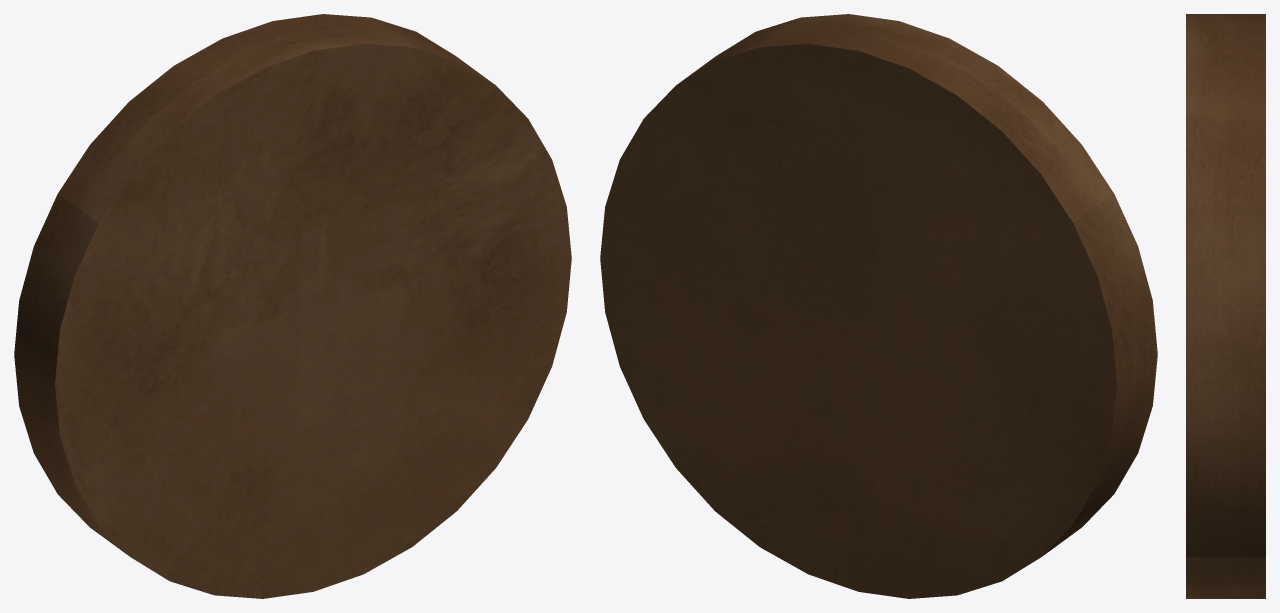
The model's file is exhaust_cap__cap_shell.glb.
3 renders of one model, left to right at view 1: azimuth 30°, elevation 25°; view 2: azimuth 150°, elevation 25°; view 3: azimuth 270°, elevation 25°, orthographic.
Parts seen in each view (by area): view 1: geometry_0; view 2: geometry_0; view 3: geometry_0.
Part boxes in pixels (x1=…): geometry_0: x1=14, y1=14, x2=571, y2=598; geometry_0: x1=600, y1=14, x2=1157, y2=598; geometry_0: x1=1186, y1=14, x2=1265, y2=598.
Size of the model in its own units: 0.132 by 0.132 by 0.018.
1 material, 1 textured.
